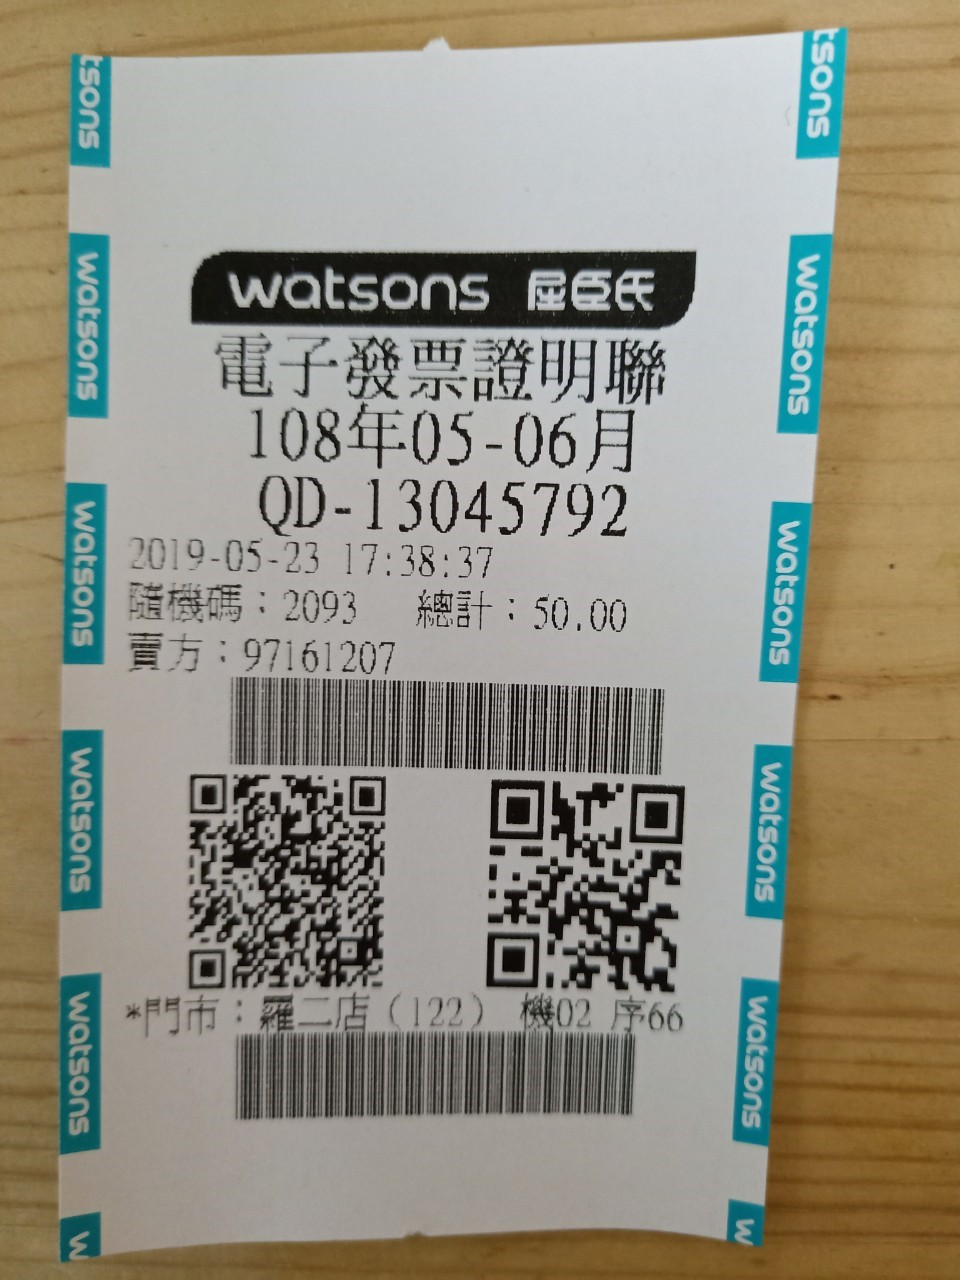Date_New: (245, 402, 638, 477)
Number_New: (361, 477, 632, 543)
